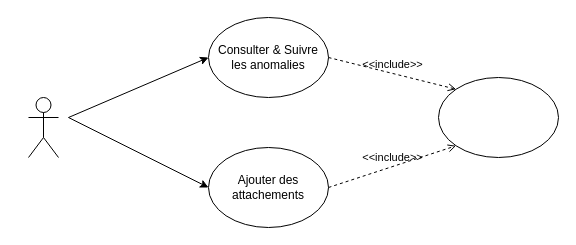
Some shapes in this 576 by 245 pixel diagram are drawn without their labels. The shapes that lost their labels are listed below. From the top down, each one's centre as x and y in pixels, then its label:
pixel 43 127: Exploitant
pixel 498 117: S'authentifier
